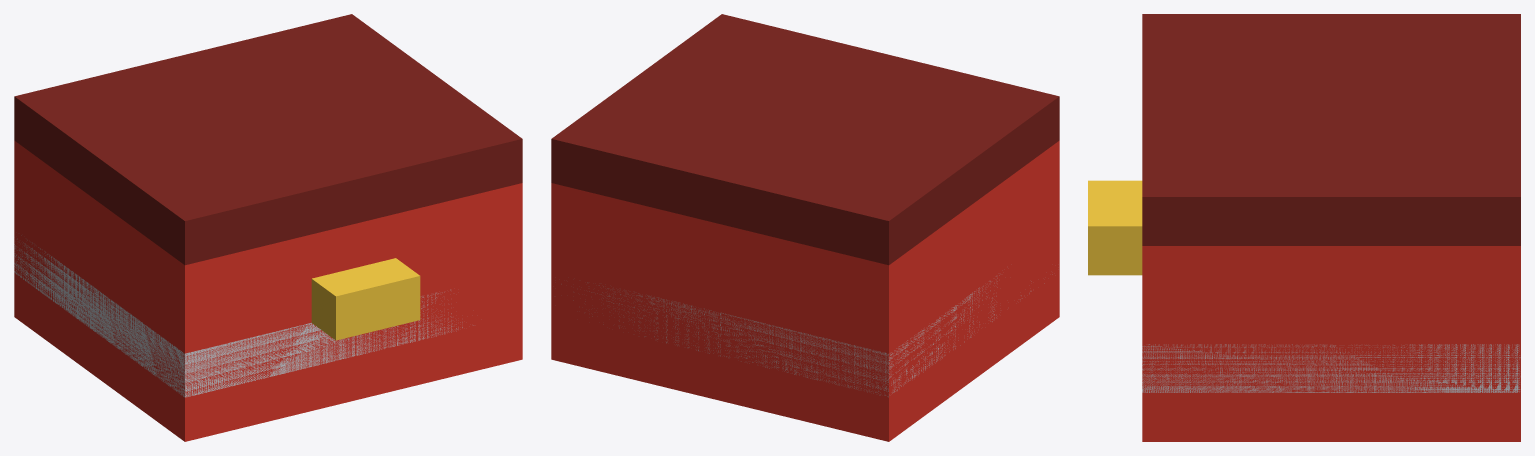
The model's file is item_food.glb.
3 renders of one model, left to right at view 1: azimuth 30°, elevation 25°; view 2: azimuth 150°, elevation 25°; view 3: azimuth 270°, elevation 25°, orthographic. The views are drawn at different scales.
Parts seen in each view (by area): view 1: Pack mesh, Top mesh, Band mesh, Label mesh; view 2: Pack mesh, Top mesh, Band mesh; view 3: Top mesh, Pack mesh, Band mesh, Label mesh.
Boxes of the visible parts, x1=… form: Pack mesh: x1=14, y1=140, x2=522, y2=441; Top mesh: x1=14, y1=14, x2=522, y2=265; Band mesh: x1=14, y1=235, x2=473, y2=397; Label mesh: x1=311, y1=258, x2=420, y2=340; Pack mesh: x1=551, y1=140, x2=1059, y2=441; Top mesh: x1=551, y1=14, x2=1059, y2=265; Band mesh: x1=561, y1=274, x2=1052, y2=397; Top mesh: x1=1142, y1=14, x2=1520, y2=245; Pack mesh: x1=1142, y1=246, x2=1520, y2=441; Band mesh: x1=1142, y1=344, x2=1520, y2=392; Label mesh: x1=1088, y1=180, x2=1142, y2=275.
Bounding box in the file's own units: 8 × 5 × 8.
1 material, 1 textured.
